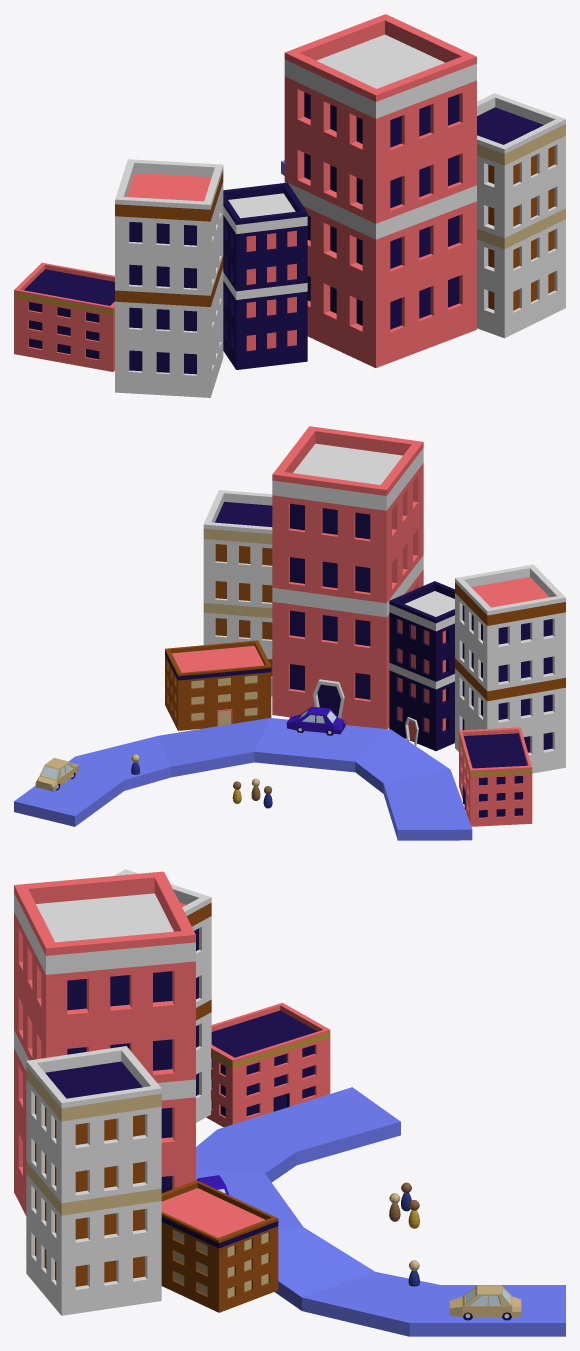
Rendered from city.glb.
The picture shows the model from 3 angles, top to bottom: view 1: azimuth 30°, elevation 25°; view 2: azimuth 150°, elevation 25°; view 3: azimuth 270°, elevation 25°; orthographic projection. The views are drawn at different scales.
Parts seen in each view (by area): view 1: Building, Building.003, Building.002, Building.001, Building2; view 2: Building, CityRoad, Building.003, Building.002, Building.001, Building2.001, Building2, ParkedCar.003, ParkedCar.002; view 3: Building, Building.002, CityRoad, Building2.001, Building2, Building.003, ParkedCar.002.
Part boxes in pixels (box(x1,y1,x2,y2)): Building: box(284, 14, 476, 367); Building.003: box(115, 159, 223, 397); Building.002: box(477, 93, 565, 338); Building.001: box(223, 182, 307, 369); Building2: box(14, 262, 114, 371); Building: box(272, 426, 423, 728); CityRoad: box(14, 718, 472, 840); Building.003: box(455, 564, 565, 773); Building.002: box(203, 490, 272, 696); Building.001: box(389, 581, 454, 750); Building2.001: box(165, 640, 271, 730); Building2: box(459, 727, 532, 826); ParkedCar.003: box(286, 706, 345, 735); ParkedCar.002: box(35, 757, 78, 791); Building: box(14, 871, 195, 1215); Building.002: box(26, 1046, 161, 1315); CityRoad: box(196, 1087, 565, 1336); Building2.001: box(161, 1180, 278, 1312); Building2: box(206, 1002, 330, 1127); Building.003: box(114, 869, 211, 1122); ParkedCar.002: box(449, 1285, 521, 1320).
Bounding box in the file's own units: 5.86 × 3.57 × 5.39.
